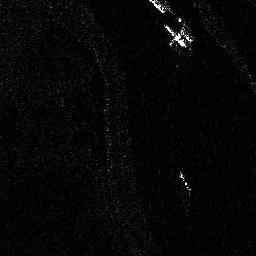ship: (164, 23, 188, 51), (177, 169, 191, 192), (149, 1, 166, 14)
